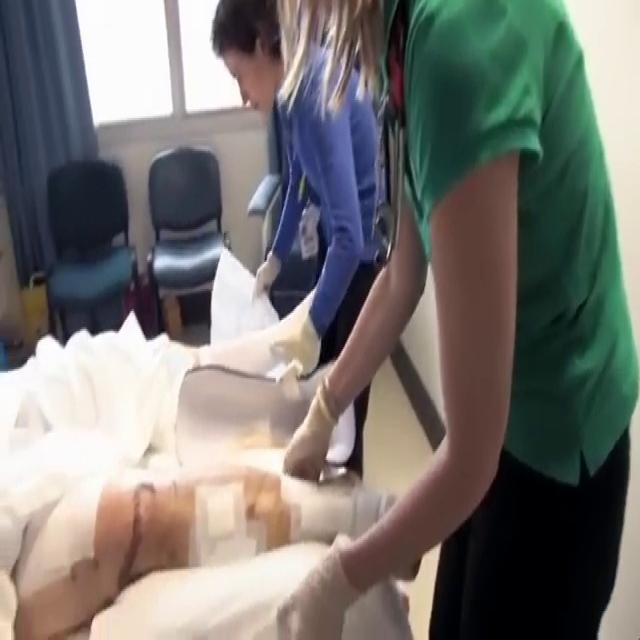nurse: (273, 0, 638, 636), (273, 0, 625, 511), (181, 0, 359, 251)
